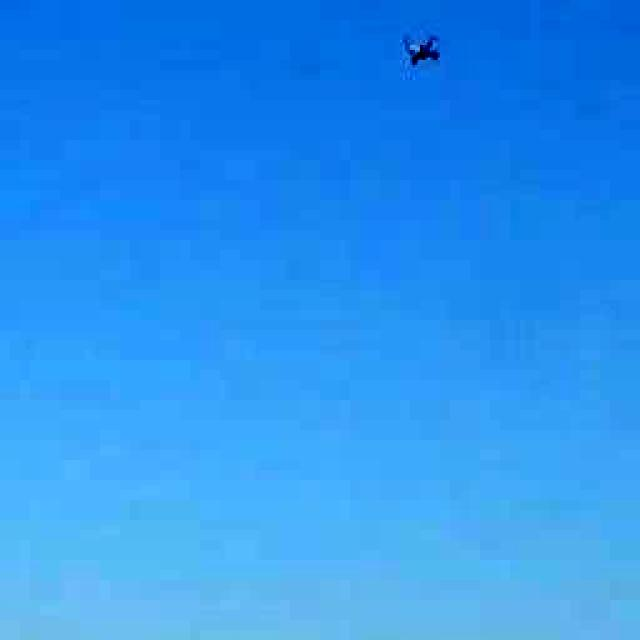bird: (379, 10, 469, 88)
